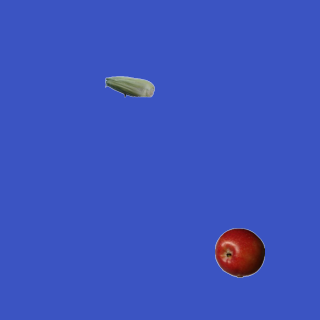Apple Braeburn: (214, 227, 264, 277)
Corn Husk: (104, 61, 154, 111)
